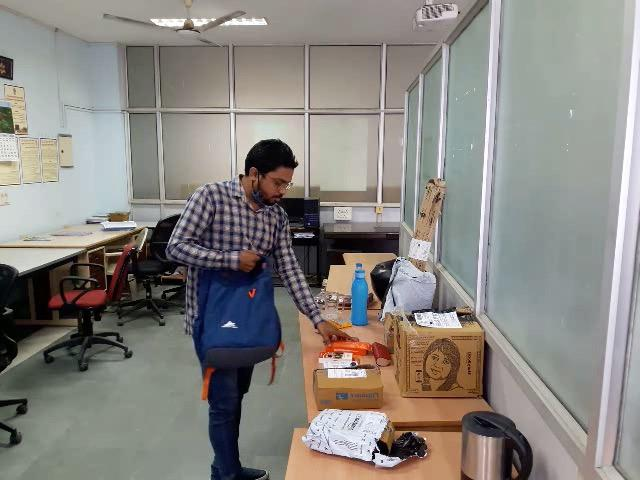shoplifting: (156, 222, 374, 383)
